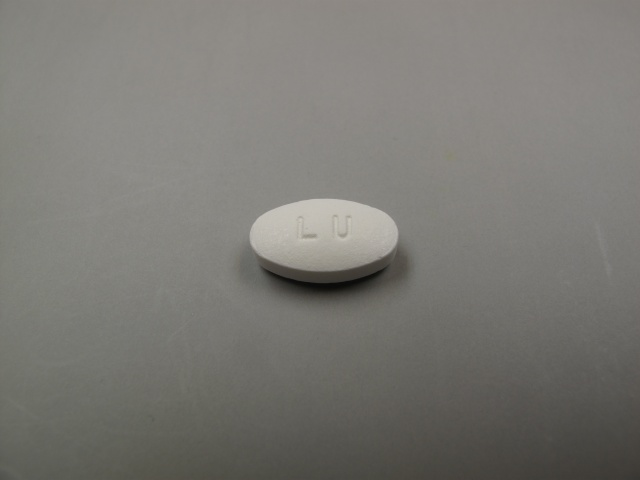L: (294, 213, 320, 246)
U: (329, 213, 355, 245)
